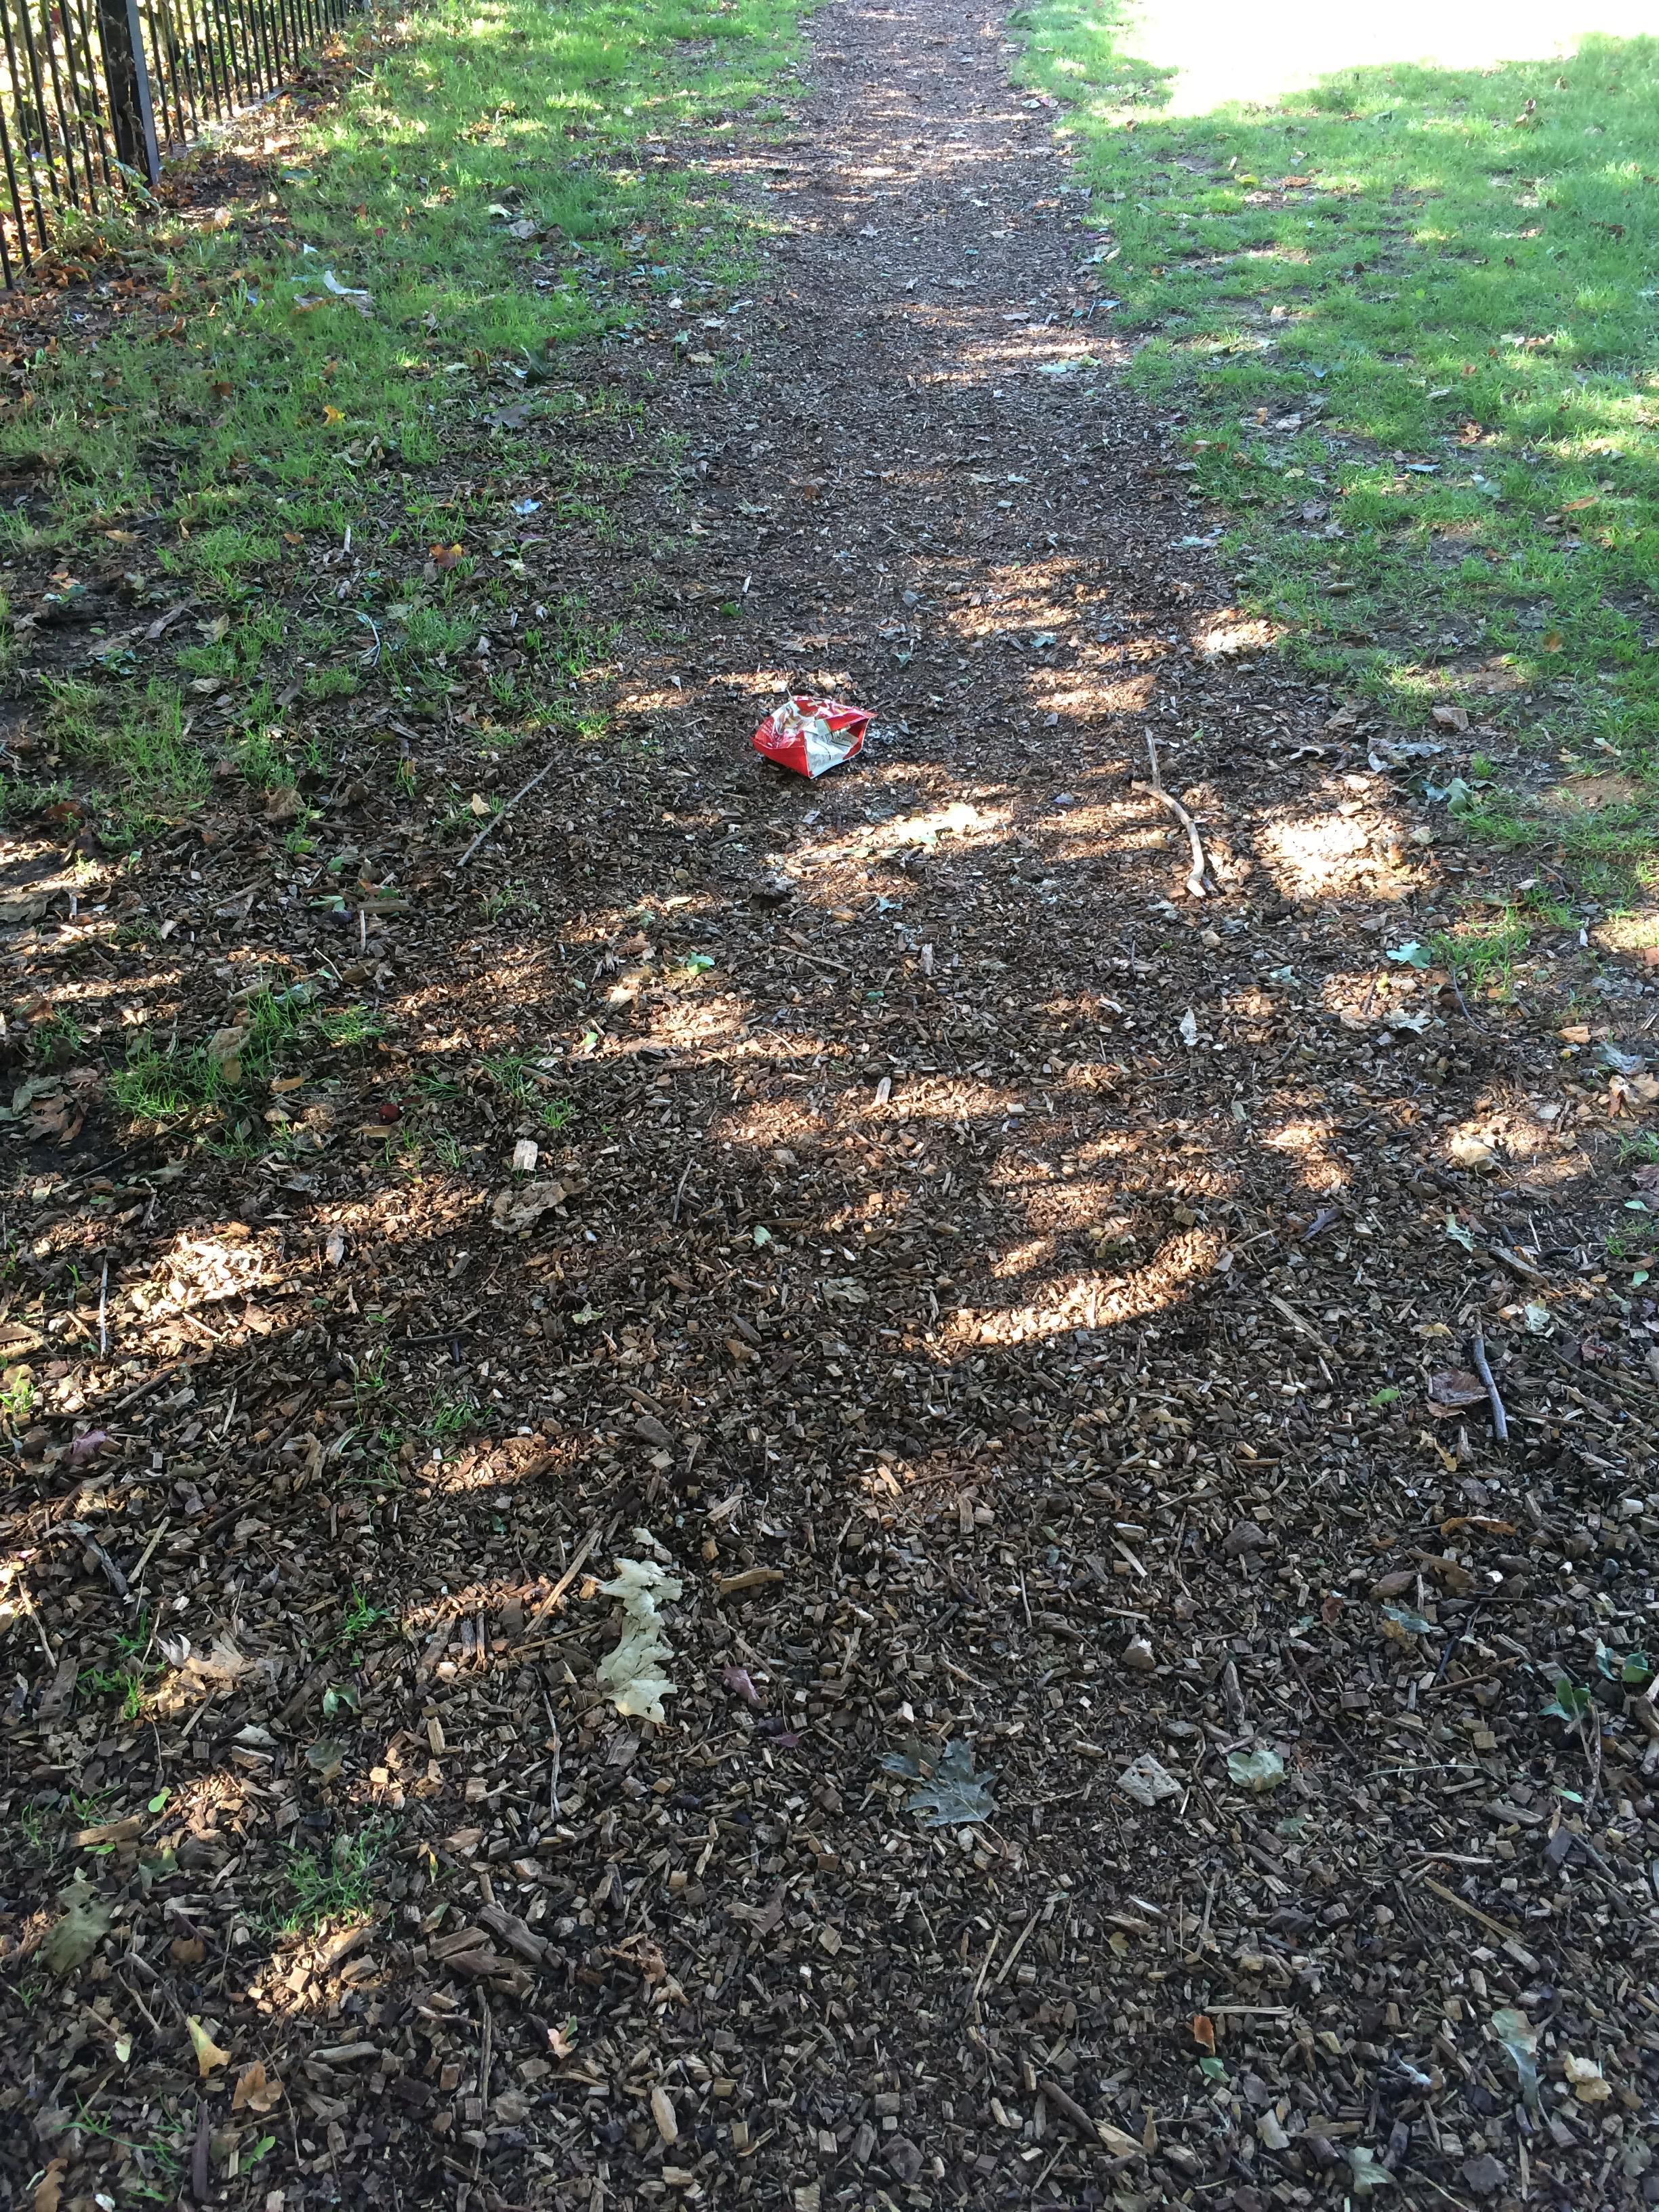Trash: (753, 681, 870, 777)
